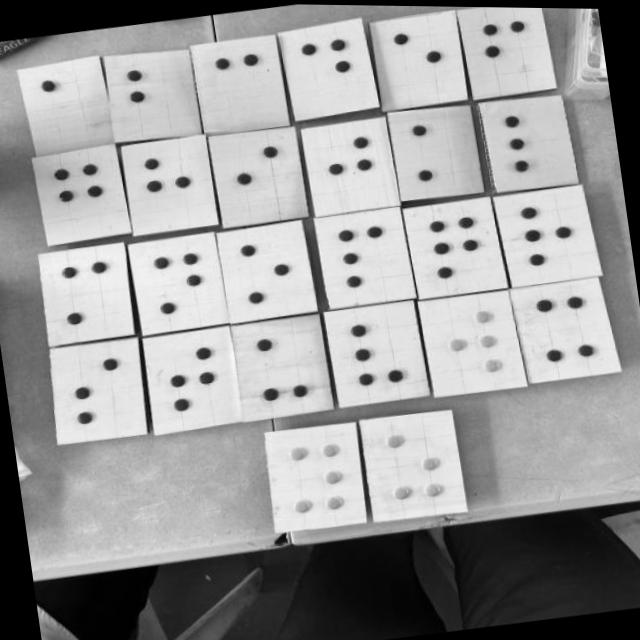braiile: (358, 408, 466, 521), (417, 289, 528, 396), (511, 276, 620, 382), (324, 299, 430, 406), (264, 422, 367, 532), (231, 314, 335, 421), (142, 325, 243, 434), (278, 16, 381, 119), (404, 196, 508, 298), (495, 184, 603, 282), (51, 340, 148, 448), (314, 206, 416, 306), (210, 127, 310, 227), (216, 221, 316, 320), (131, 233, 229, 334), (119, 137, 219, 235), (190, 35, 291, 132), (40, 243, 134, 347), (17, 56, 115, 155), (372, 10, 470, 109), (32, 147, 131, 243), (478, 95, 578, 189), (304, 117, 401, 213), (458, 5, 557, 97), (105, 50, 200, 142), (391, 106, 482, 198)
